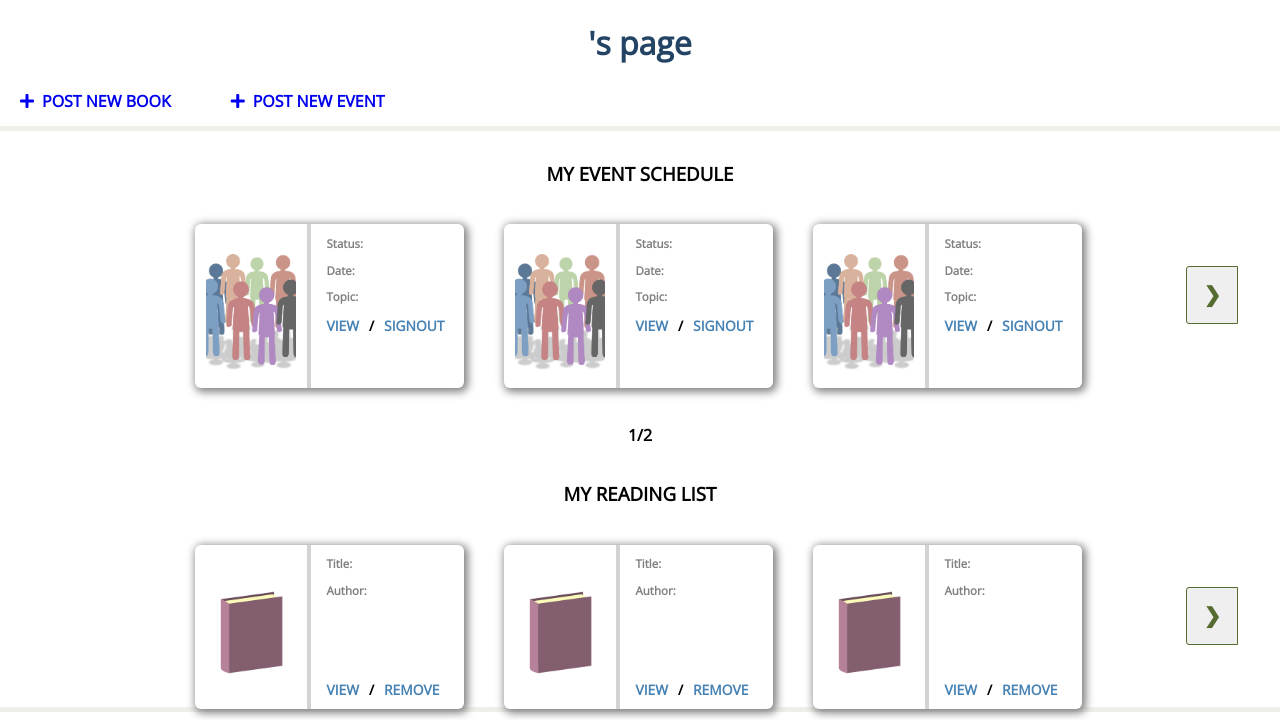
Test: MyPage component › render next page of readings list by clicking increase button
expect the heading "'s page" is shown: met, box [588,21,692,64]
Click the 2nd button with class "next": (1212, 616) [1186,587,1238,645]
(page scrolled)
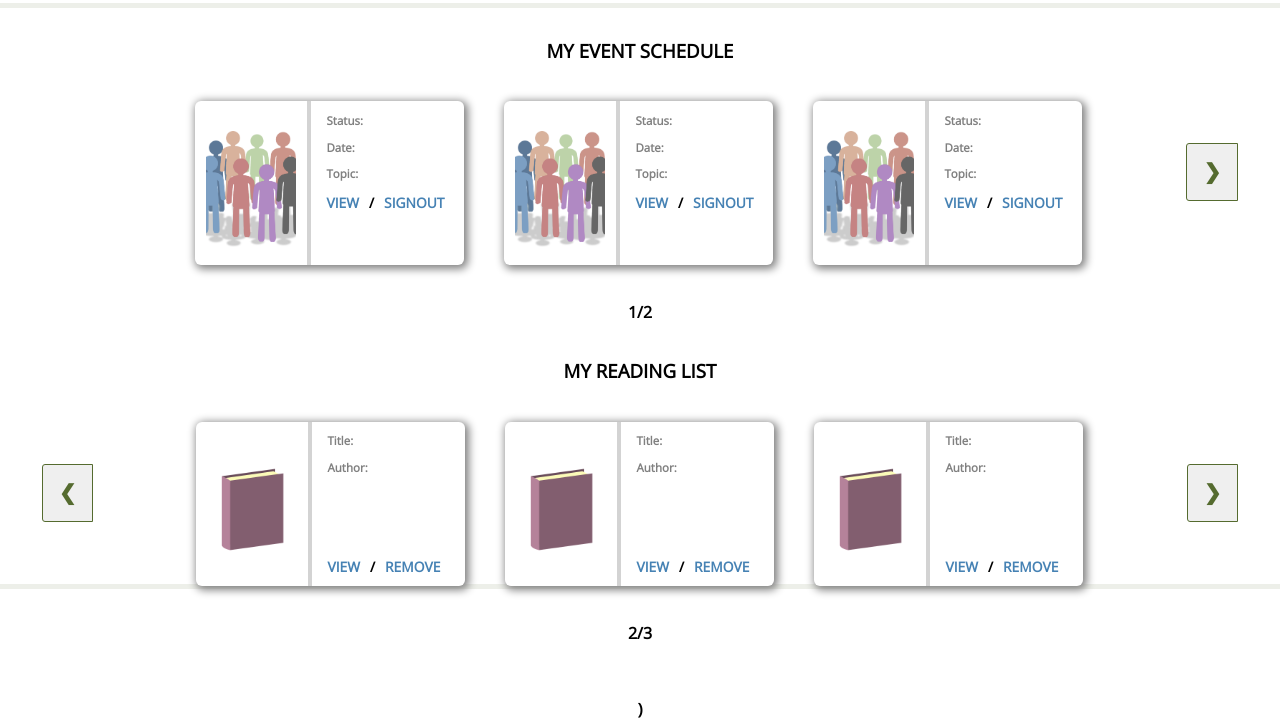
expect the text "2/3" is shown: met, box [628,622,652,644]
